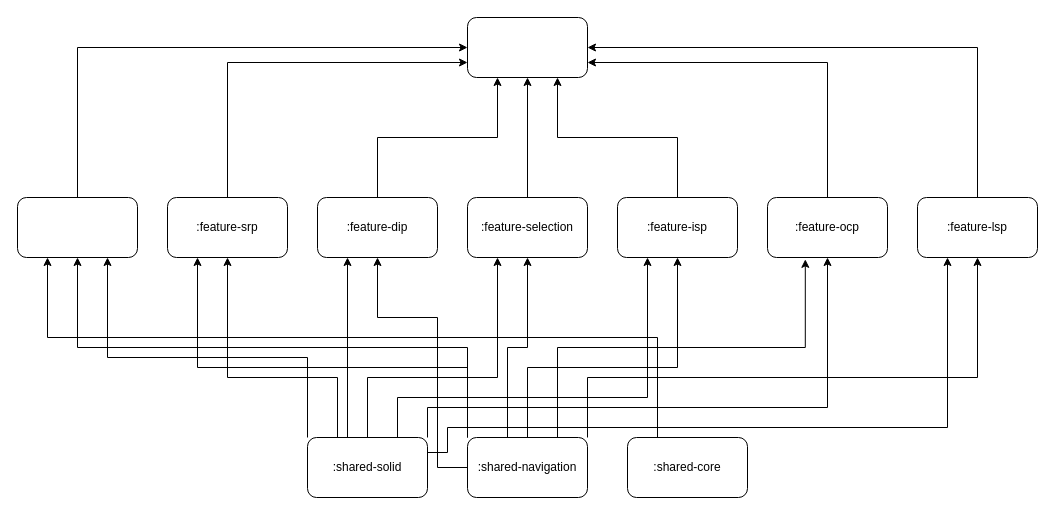
Some shapes in this 1055 by 515 pixel diagram are drawn without their labels. The box of each missing label's shape, as (x1, y1, x2, y2) in pixels:
:app: (466, 16, 588, 78)
:feature-solid: (16, 196, 138, 258)
